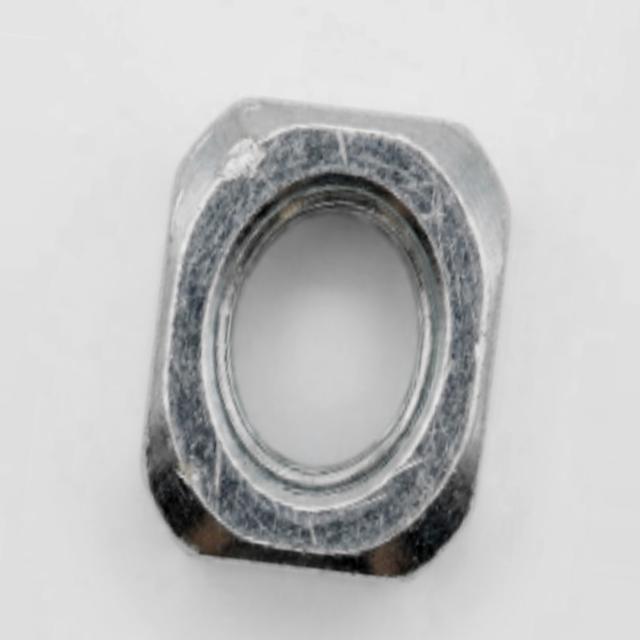defect: (220, 121, 272, 173), (166, 455, 209, 501)
